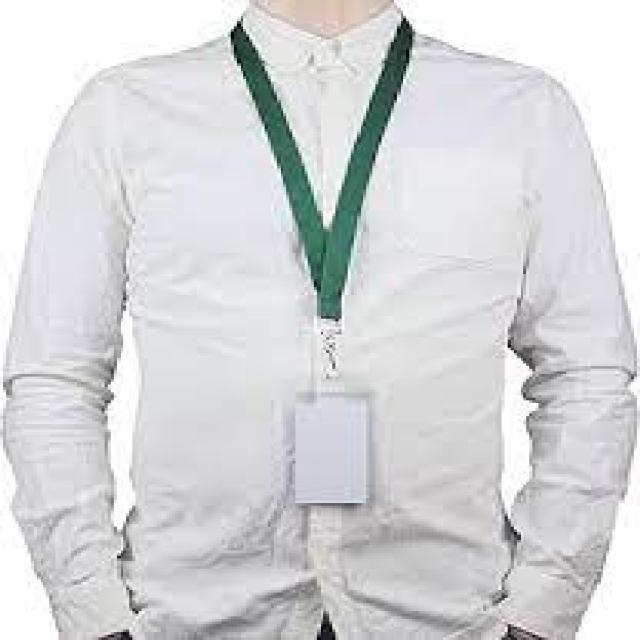id_card: (216, 38, 427, 518)
